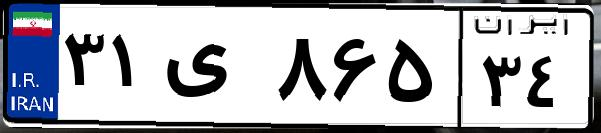1: (110, 28, 158, 98)
3: (57, 26, 110, 100), (475, 38, 525, 113)
4: (525, 38, 570, 115)
5: (385, 28, 445, 110)
6: (330, 28, 385, 110)
8: (270, 28, 330, 110)
ی: (158, 20, 270, 120)
